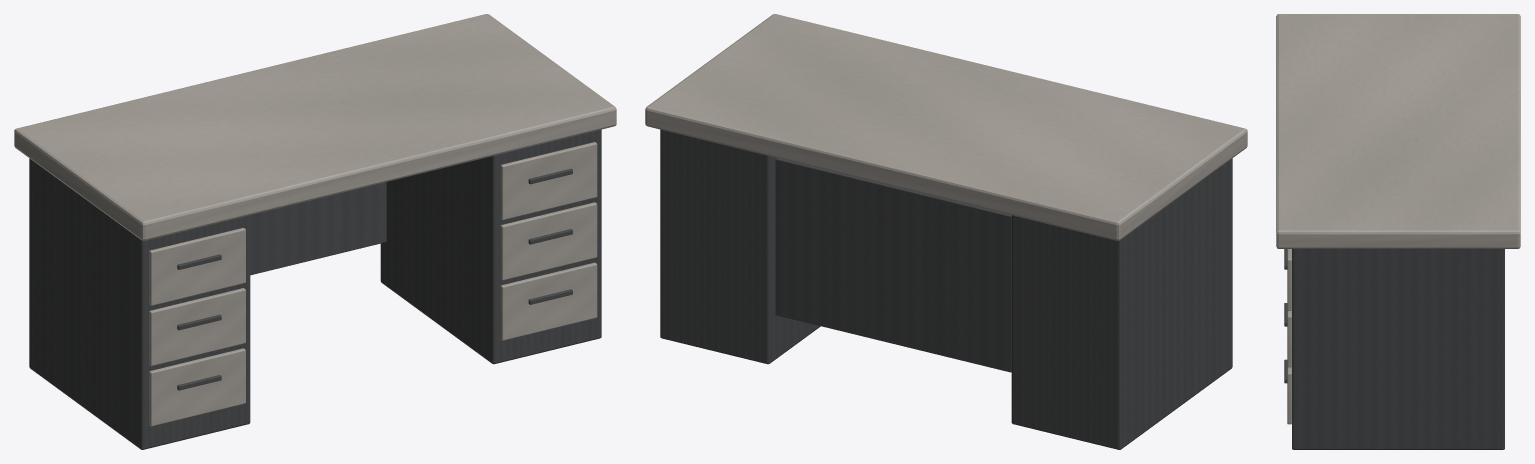
The model's file is engineering_desk.glb.
The picture shows the model from 3 angles, left to right: view 1: azimuth 30°, elevation 25°; view 2: azimuth 150°, elevation 25°; view 3: azimuth 270°, elevation 25°; orthographic projection. The views are drawn at different scales.
Visible parts, largest first — view 1: desk_top, pedestal.005, pedestal.006, modesty_panel, drawer_front.007, drawer_front.006, drawer_front.008, drawer_front.003, drawer_front.004, drawer_front.005; view 2: desk_top, pedestal.005, modesty_panel, pedestal.006; view 3: desk_top, pedestal.006, drawer_front.008, drawer_front.006, drawer_front.007.
Part boxes in pixels (<box>): desk_top: <box>14,14,616,240</box>; pedestal.005: <box>29,158,250,449</box>; pedestal.006: <box>380,129,601,364</box>; modesty_panel: <box>250,182,386,275</box>; drawer_front.007: <box>500,202,597,280</box>; drawer_front.006: <box>500,262,597,340</box>; drawer_front.008: <box>500,142,597,219</box>; drawer_front.003: <box>149,348,245,426</box>; drawer_front.004: <box>149,288,245,366</box>; drawer_front.005: <box>149,227,245,305</box>; desk_top: <box>645,14,1247,240</box>; pedestal.005: <box>1011,158,1232,449</box>; modesty_panel: <box>775,158,1011,372</box>; pedestal.006: <box>660,129,820,364</box>; desk_top: <box>1276,14,1520,248</box>; pedestal.006: <box>1292,249,1504,449</box>; drawer_front.008: <box>1287,249,1291,310</box>; drawer_front.006: <box>1287,367,1291,424</box>; drawer_front.007: <box>1287,310,1291,367</box>.
Size of the model in its own units: 1.65 by 0.7825 by 0.78.
Materials: 2 (2 with a texture image).
